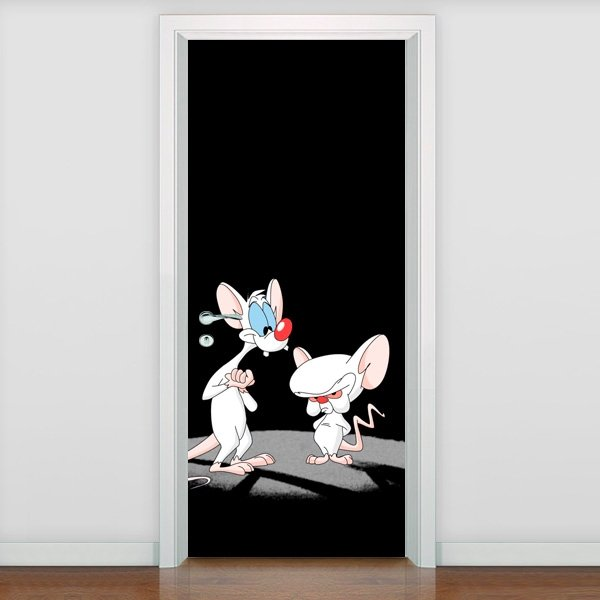cerebro: (288, 332, 394, 473)
pink: (189, 257, 293, 496)
